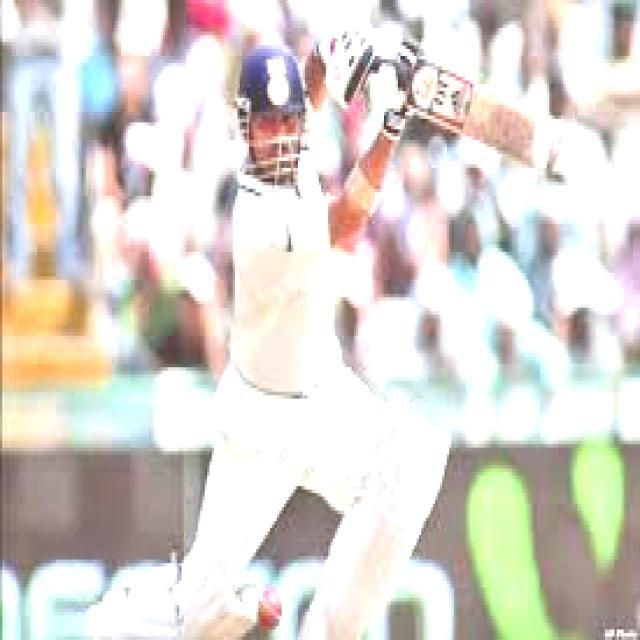bat: (401, 64, 543, 167)
